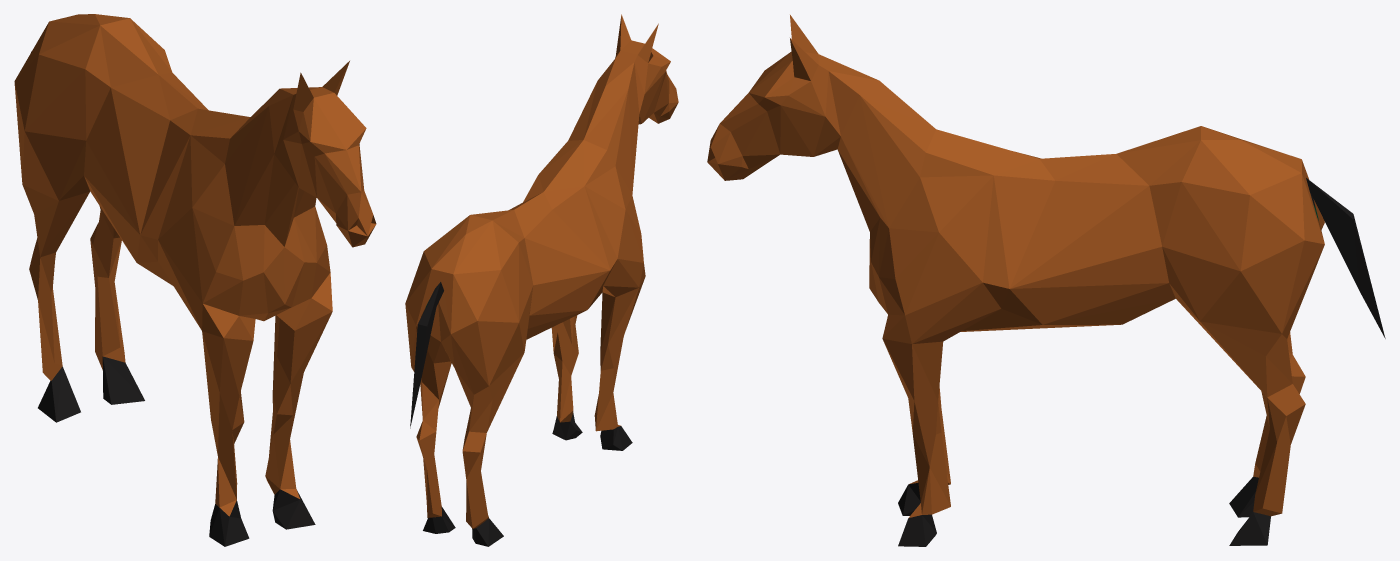
The model's file is Hourse.fbx.
3 views of the same model, side by side, from view 1: azimuth 30°, elevation 25°; view 2: azimuth 150°, elevation 25°; view 3: azimuth 270°, elevation 25° (orthographic). The views are drawn at different scales.
Visible parts, largest first — view 1: Hourse; view 2: Hourse; view 3: Hourse.
Part boxes in pixels (box(x1,y1,x2,y2)): Hourse: box(14, 14, 376, 546); Hourse: box(405, 14, 678, 546); Hourse: box(707, 15, 1385, 546).
Bounding box in the file's own units: 21.89 × 73.21 × 90.23.
